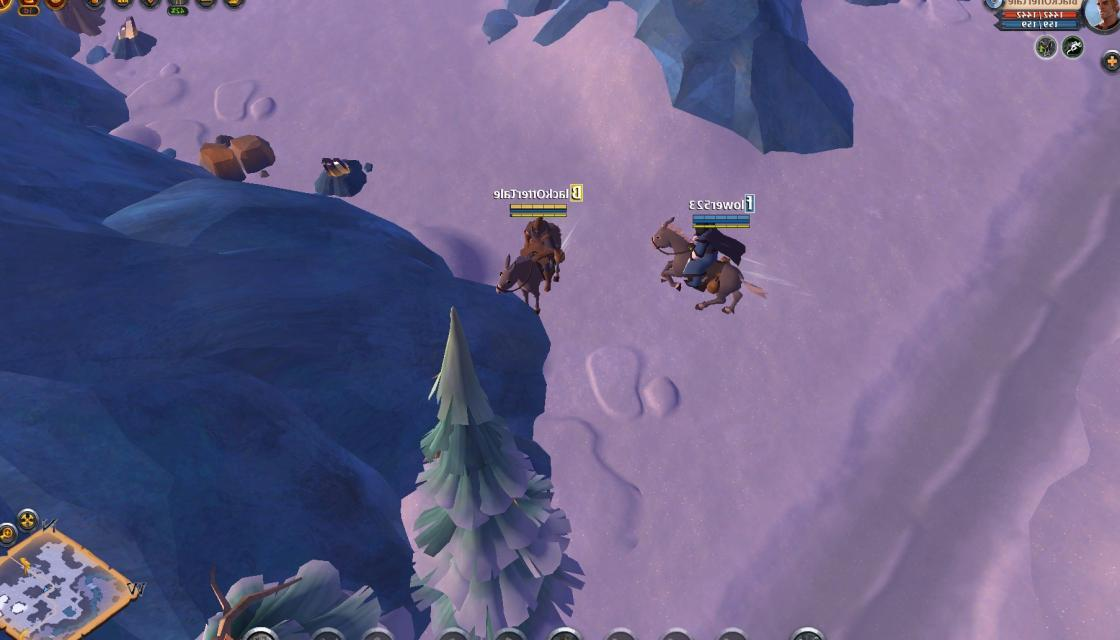copperore: (311, 147, 367, 205), (104, 12, 152, 64)
limestone: (196, 126, 280, 182)
